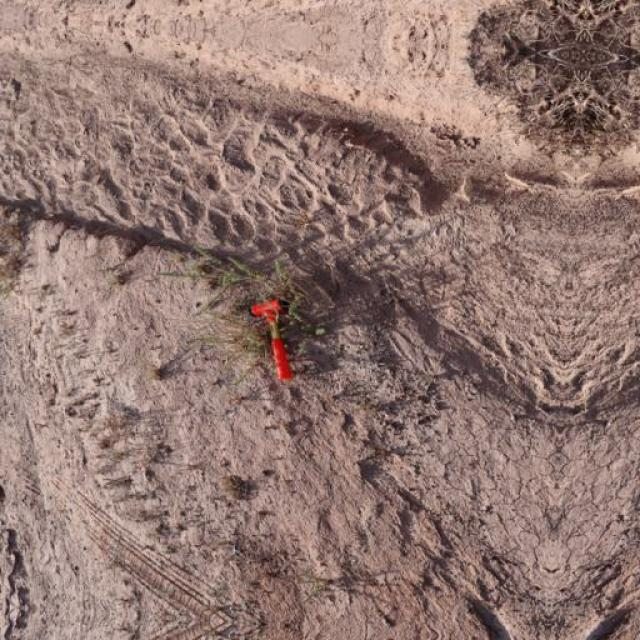mallet: (248, 296, 294, 382)
